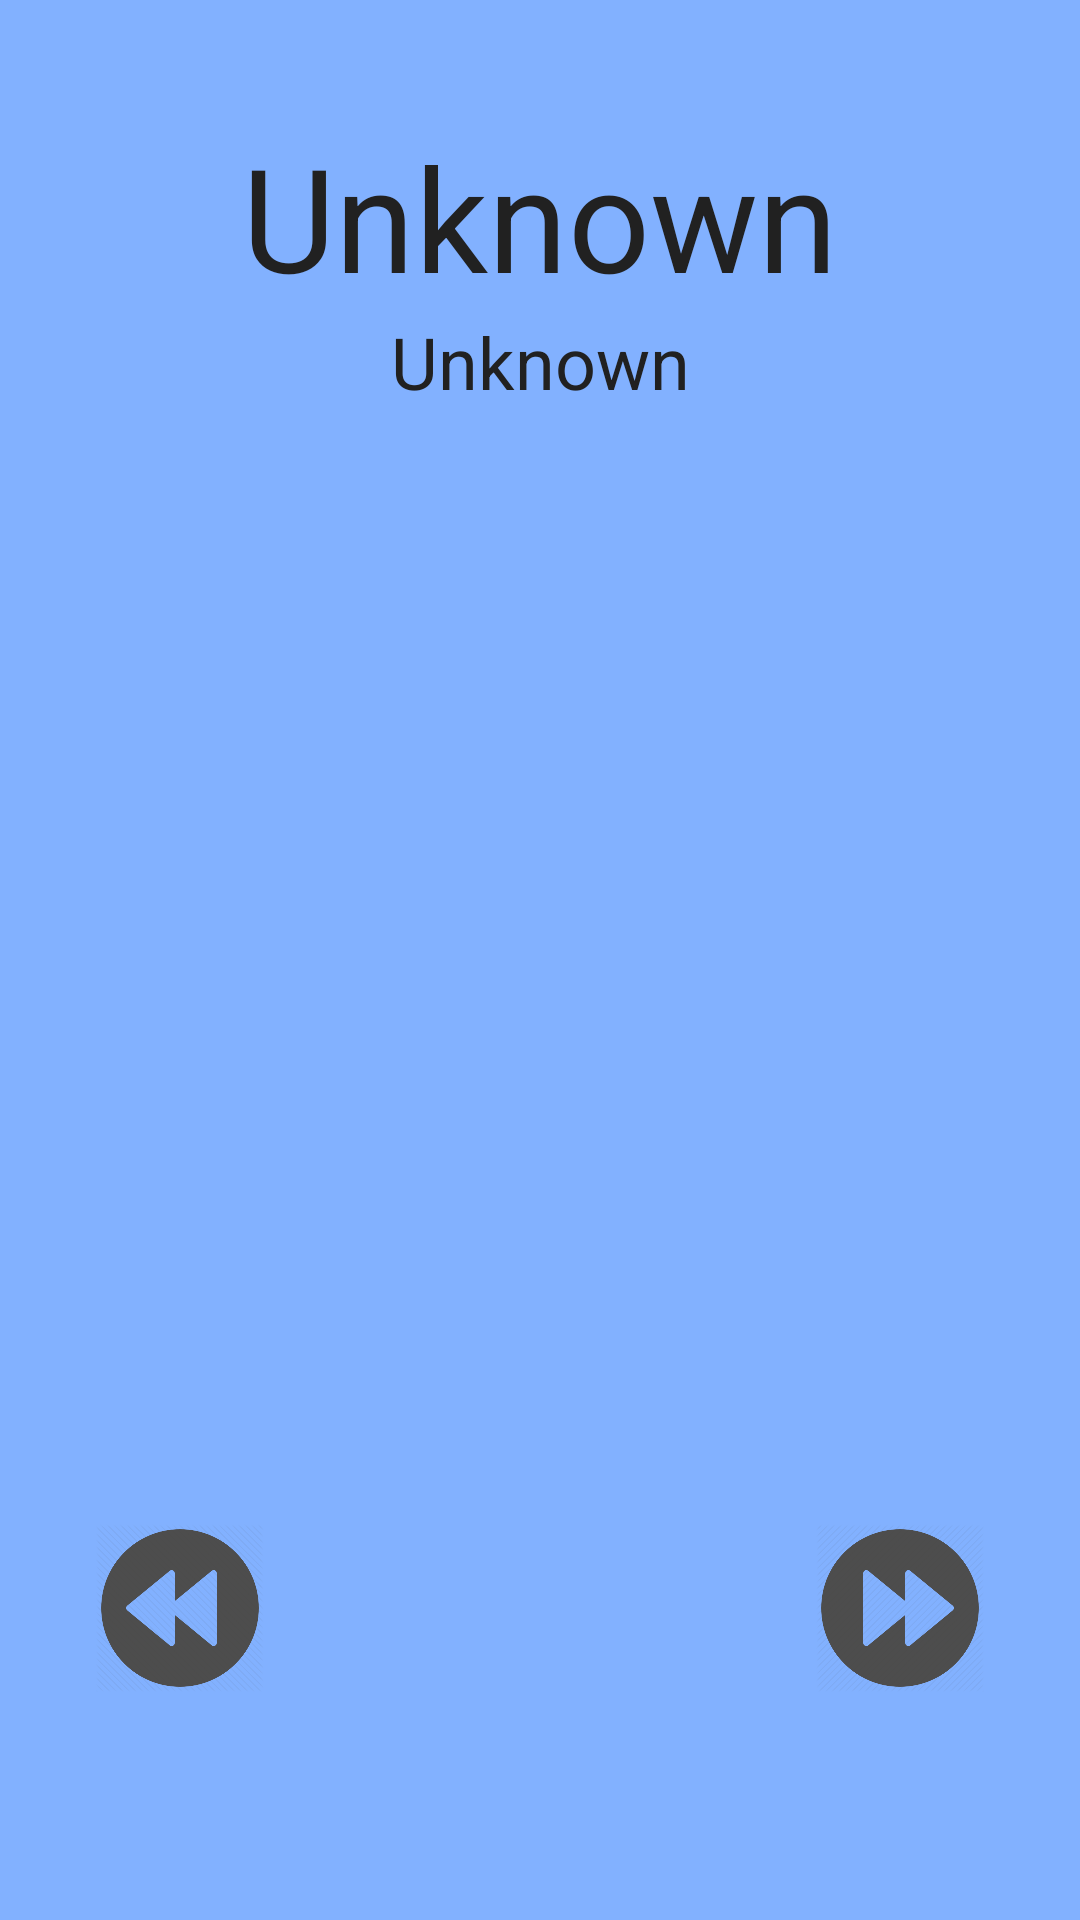

Point at icon controls on the screen. Image size 1080*1920, points as (x=x, y=y).
forward: (x=900, y=1608)
rewind: (x=180, y=1608)
